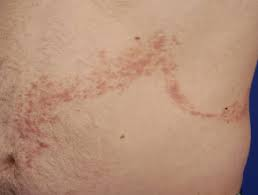linear lichen planus: (162, 61, 220, 132)
